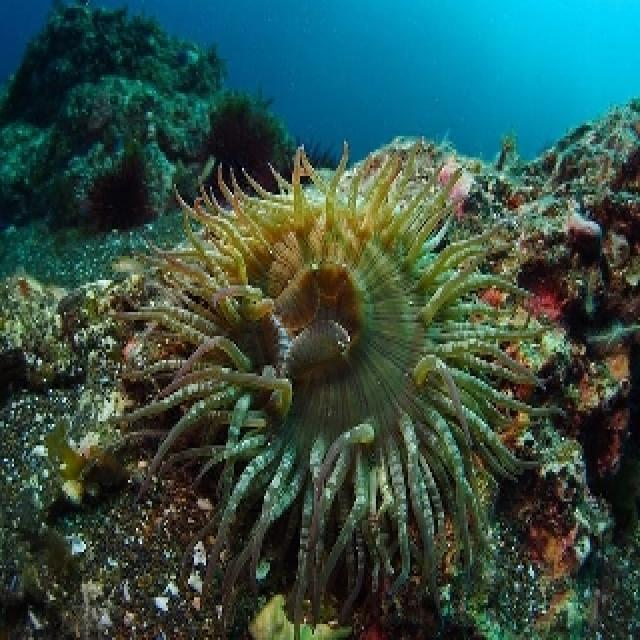reefs: (95, 133, 573, 637)
sea-floor: (0, 95, 638, 637), (0, 0, 341, 287)
